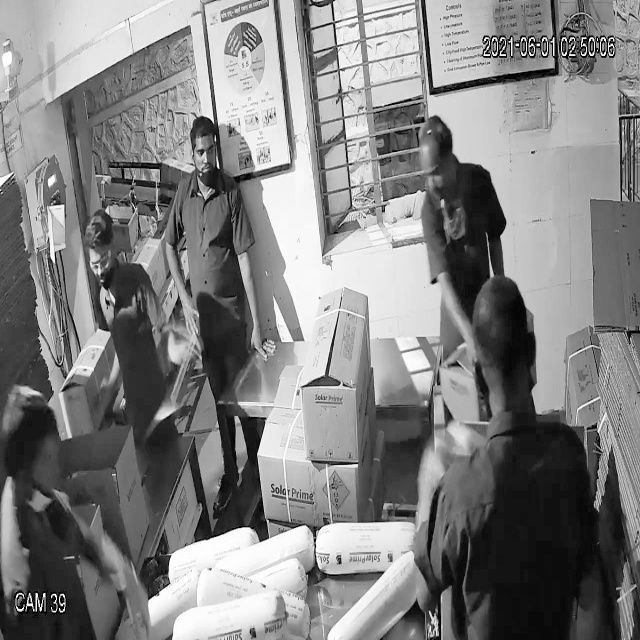Gafas: (84, 244, 117, 282)
